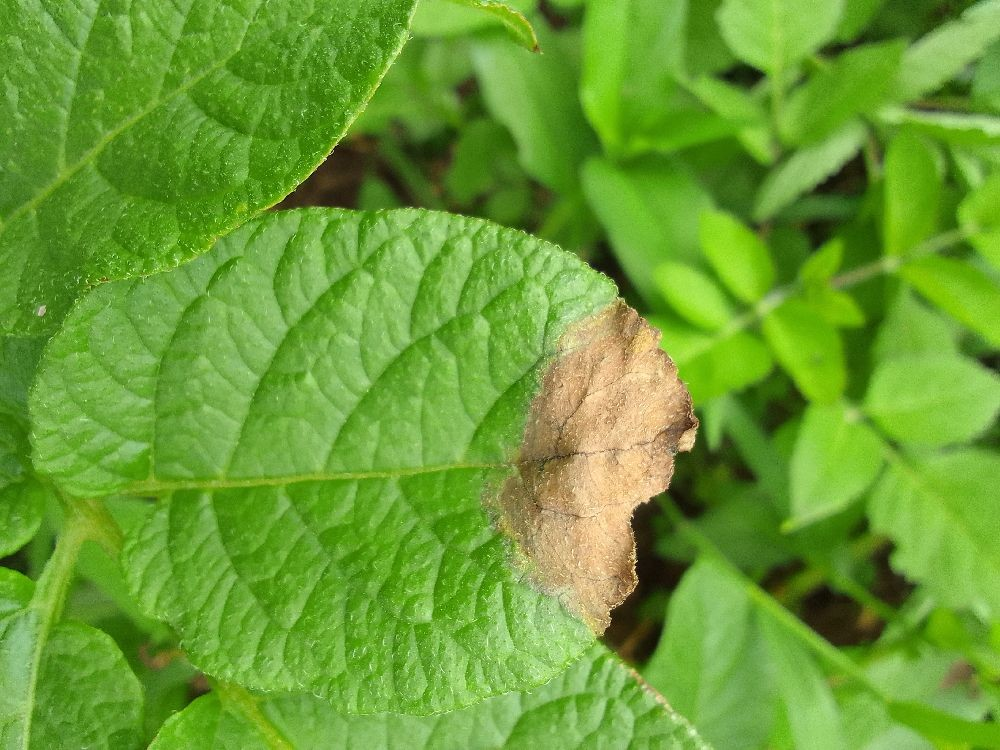late_blight: (457, 258, 744, 709), (267, 118, 404, 225), (785, 570, 895, 656), (861, 529, 922, 613)
